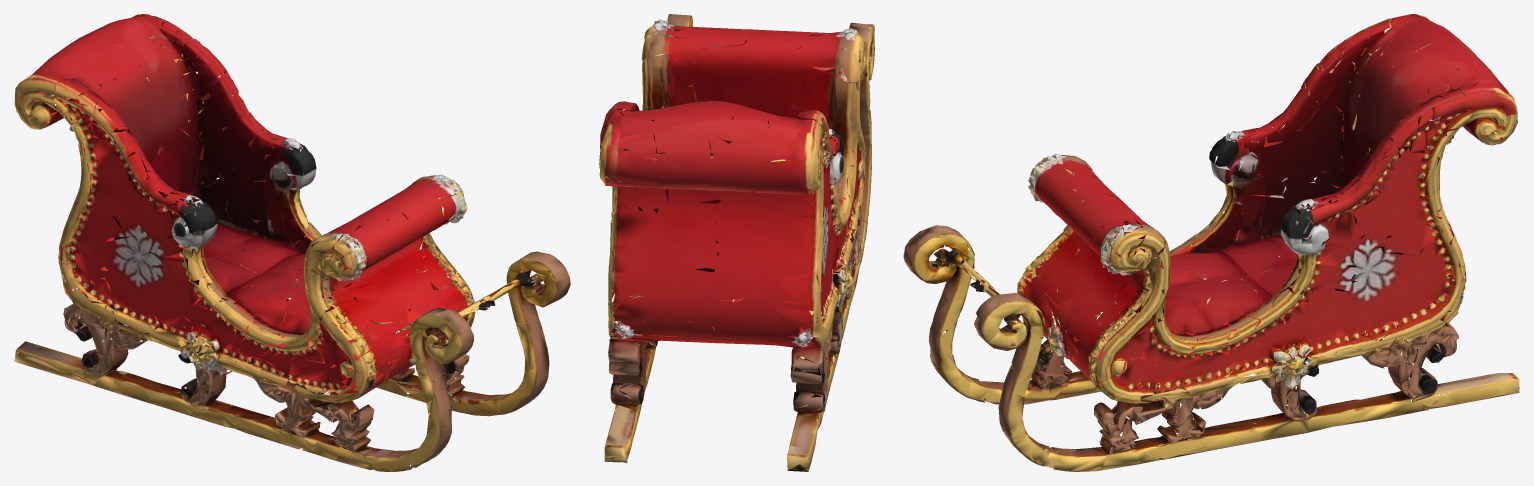
File: sleigh.opt.glb
The picture shows the model from 3 angles, left to right: view 1: azimuth 30°, elevation 25°; view 2: azimuth 150°, elevation 25°; view 3: azimuth 270°, elevation 25°; orthographic projection. The views are drawn at different scales.
Parts seen in each view (by area): view 1: Object_8, Object_5, Object_6, Object_4, Object_7, Object_9; view 2: Object_4, Object_5, Object_7, Object_8, Object_6, Object_9; view 3: Object_7, Object_5, Object_9, Object_6, Object_4, Object_8.
Part boxes in pixels (x1,y1,x2,y2): Object_8: (16,25,535,471); Object_5: (14,17,545,471); Object_6: (27,22,538,463); Object_4: (17,39,549,463); Object_7: (14,14,473,471); Object_9: (122,29,570,404); Object_4: (608,19,874,411); Object_5: (600,24,871,462); Object_7: (599,25,871,471); Object_8: (613,29,872,457); Object_6: (599,21,866,445); Object_9: (605,14,693,462); Object_7: (929,19,1517,419); Object_5: (903,31,1519,468); Object_9: (974,96,1519,468); Object_6: (945,30,1506,470); Object_4: (903,14,1479,444); Object_8: (929,23,1467,471).
Size of the model in its own units: 1.36 by 1.15 by 1.99.
Materials: 1 (1 with a texture image).
